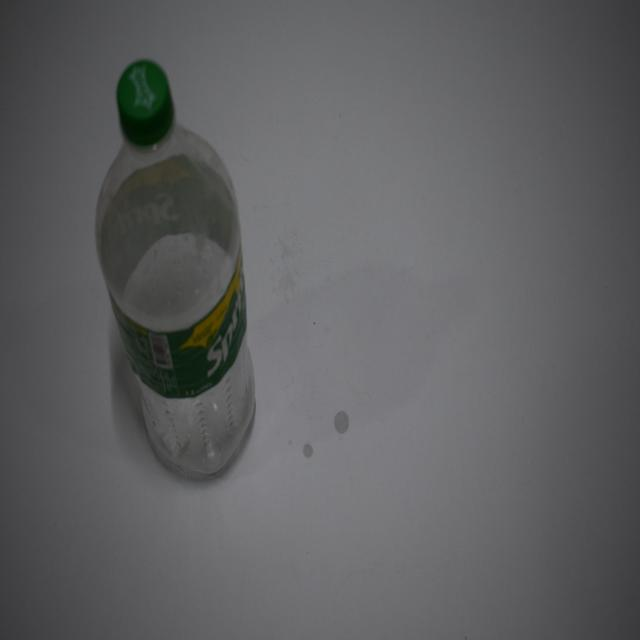bottle: (83, 40, 271, 509)
